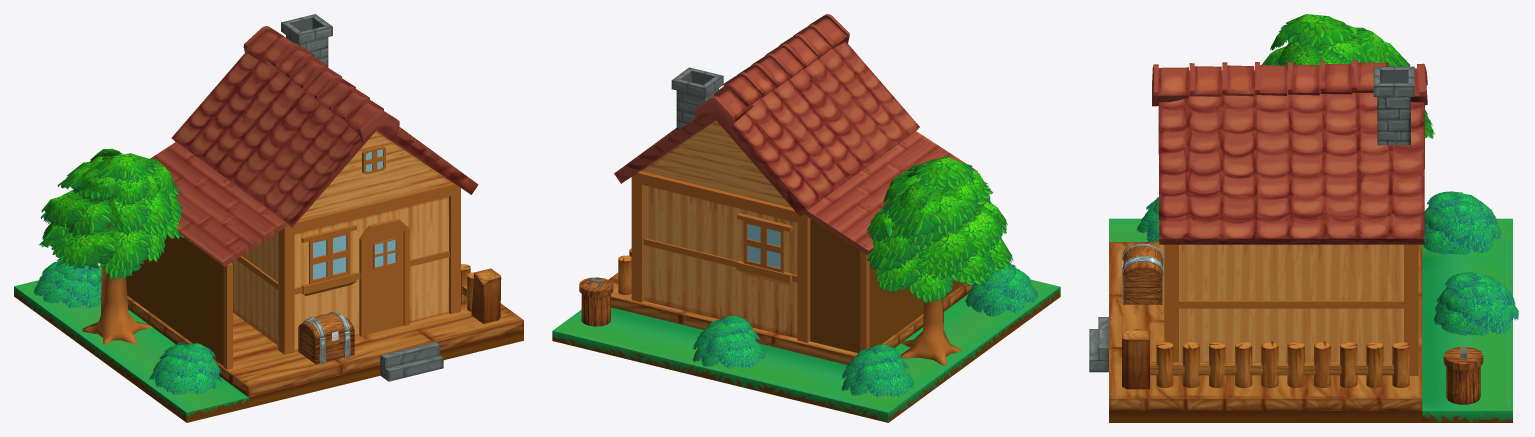
3 views of the same model, side by side, from view 1: azimuth 30°, elevation 25°; view 2: azimuth 150°, elevation 25°; view 3: azimuth 270°, elevation 25° (orthographic). The views are drawn at different scales.
Visible parts, largest first — view 1: Base.003, techo.003, bush, Casa.003, depositroof.003, deposit.002, casaColumns.003, tilesTop, buhardilla.001, door.003, bush2.001, window.003 (+14 smaller); view 2: Base.003, techo.003, bush, Casa.003, depositroof.003, deposit.003, casaColumns.003, tilesTop, buhardilla.001, windowBack.003, bush2.002, bush2.003 (+9 smaller); view 3: techo.003, Base.003, Casa.003, logs, tilesTop, bush, bush2.003, bush2.002, casaColumns.003, chimenea.003, rowWood.003, trunk.004 (+8 smaller).
Boxes of the visible parts, x1=… form: Base.003: x1=14, y1=265, x2=523, y2=422; techo.003: x1=171, y1=52, x2=478, y2=227; bush: x1=39, y1=148, x2=183, y2=280; Casa.003: x1=231, y1=196, x2=448, y2=350; depositroof.003: x1=150, y1=142, x2=288, y2=266; deposit.002: x1=126, y1=234, x2=223, y2=365; casaColumns.003: x1=278, y1=183, x2=460, y2=354; tilesTop: x1=243, y1=26, x2=399, y2=143; buhardilla.001: x1=298, y1=131, x2=452, y2=220; door.003: x1=366, y1=225, x2=403, y2=334; bush2.001: x1=149, y1=342, x2=221, y2=394; window.003: x1=301, y1=225, x2=356, y2=295; Base.003: x1=552, y1=273, x2=1060, y2=422; techo.003: x1=614, y1=41, x2=919, y2=216; bush: x1=867, y1=156, x2=1013, y2=303; Casa.003: x1=644, y1=185, x2=797, y2=337; depositroof.003: x1=804, y1=131, x2=977, y2=255; deposit.003: x1=810, y1=219, x2=860, y2=352; casaColumns.003: x1=631, y1=171, x2=810, y2=342; tilesTop: x1=694, y1=14, x2=849, y2=129; buhardilla.001: x1=641, y1=120, x2=791, y2=207; windowBack.003: x1=736, y1=213, x2=792, y2=285; bush2.002: x1=841, y1=344, x2=913, y2=397; bush2.003: x1=693, y1=316, x2=764, y2=368; techo.003: x1=1158, y1=70, x2=1424, y2=244; Base.003: x1=1109, y1=218, x2=1512, y2=422; Casa.003: x1=1179, y1=244, x2=1403, y2=361; logs: x1=1156, y1=341, x2=1409, y2=387; tilesTop: x1=1152, y1=59, x2=1427, y2=106; bush: x1=1261, y1=14, x2=1434, y2=138; bush2.003: x1=1434, y1=272, x2=1518, y2=335; bush2.002: x1=1423, y1=191, x2=1501, y2=254; casaColumns.003: x1=1164, y1=244, x2=1418, y2=375; chimenea.003: x1=1373, y1=66, x2=1414, y2=145; rowWood.003: x1=1179, y1=300, x2=1403, y2=308; trunk.004: x1=1122, y1=329, x2=1149, y2=389.
Bounding box in the file's own units: 1.74 × 1.11 × 1.48.
23 materials, 17 textured.
